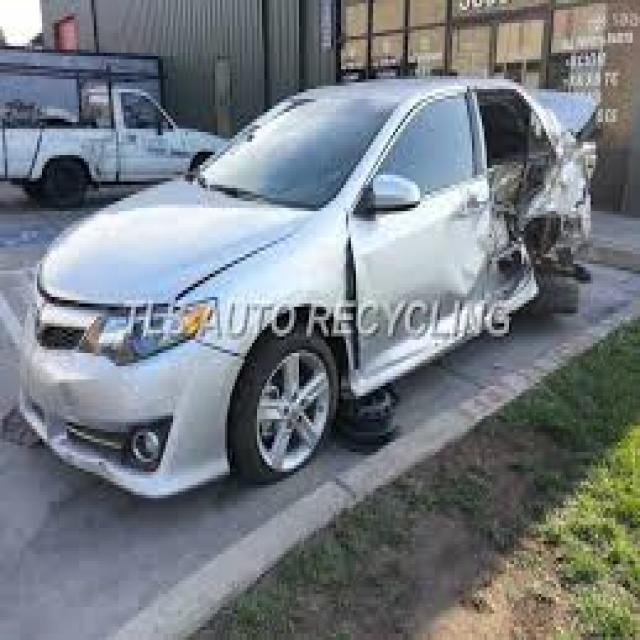severe: (438, 103, 610, 323)
